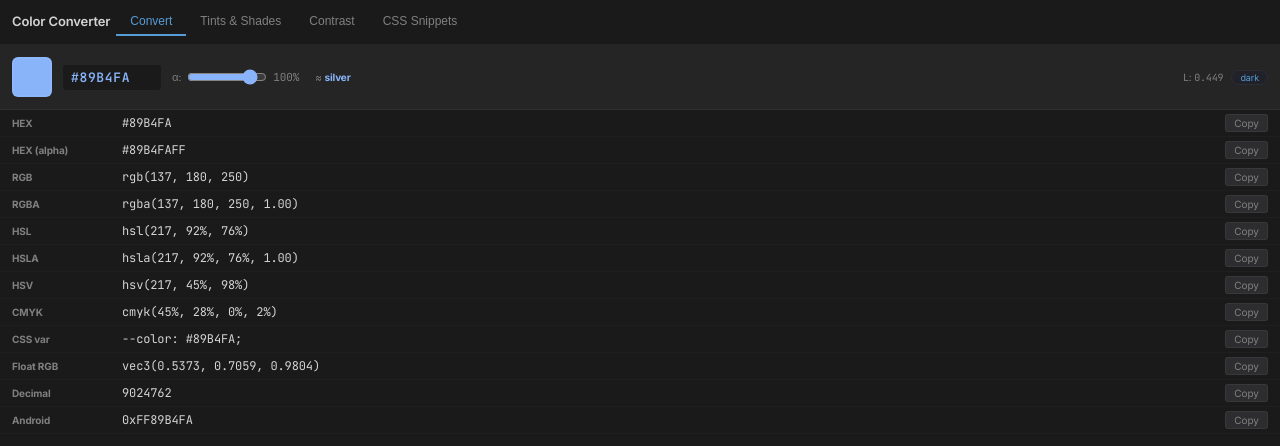
it: ColorConverterPanel › converts a short hex color into synchronized RGB and HSL values
The width and height of the screenshot is (1280, 446).
Replace the text in the field named "Hex color" with "#fff": (112, 77) [62, 64, 162, 90]
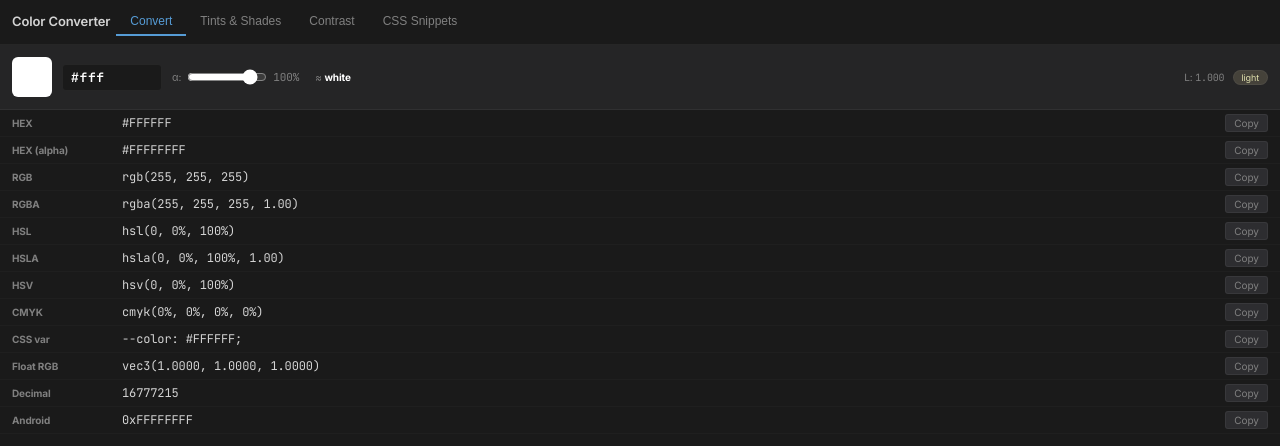
Result: the text "rgb(255, 255, 255)" is shown at [122, 169, 249, 185]
Result: the text "hsl(0, 0%, 100%)" is shown at [122, 223, 235, 239]
